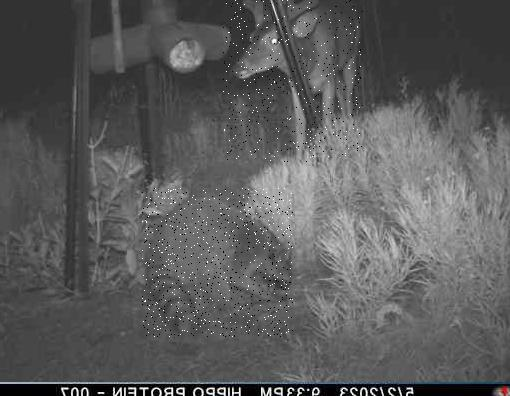Deer: (223, 0, 363, 162)
Raccoon: (142, 189, 293, 338)
